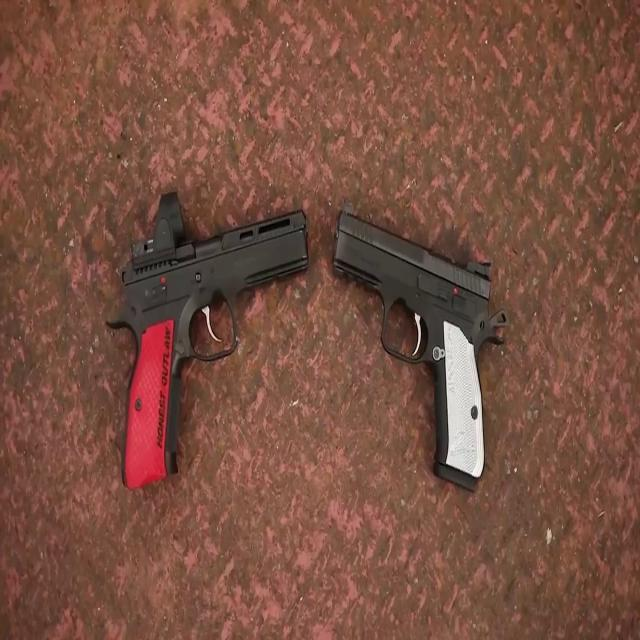Handgun: (108, 185, 316, 519), (331, 186, 513, 520)
